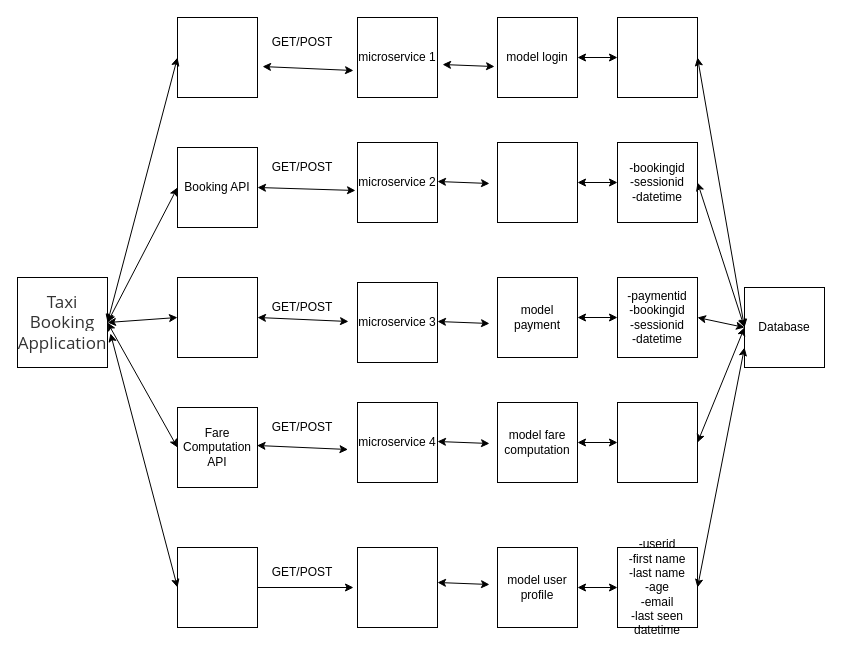
The diagram is 842 pixels wide and 655 high, and some of its shapes have lost their labels. The centre of each missing label's shape, as x and y in pixels:
"-fareid -distance -sessionid -datetime" goes at (x=657, y=442).
"-username -password -sessionid -datetime -userid" goes at (x=657, y=57).
"Login API" goes at (x=217, y=57).
"microservice 5" goes at (x=397, y=587).
"model booking" goes at (x=537, y=182).
"Payment API" goes at (x=217, y=317).
"User Profile API" goes at (x=217, y=587).
